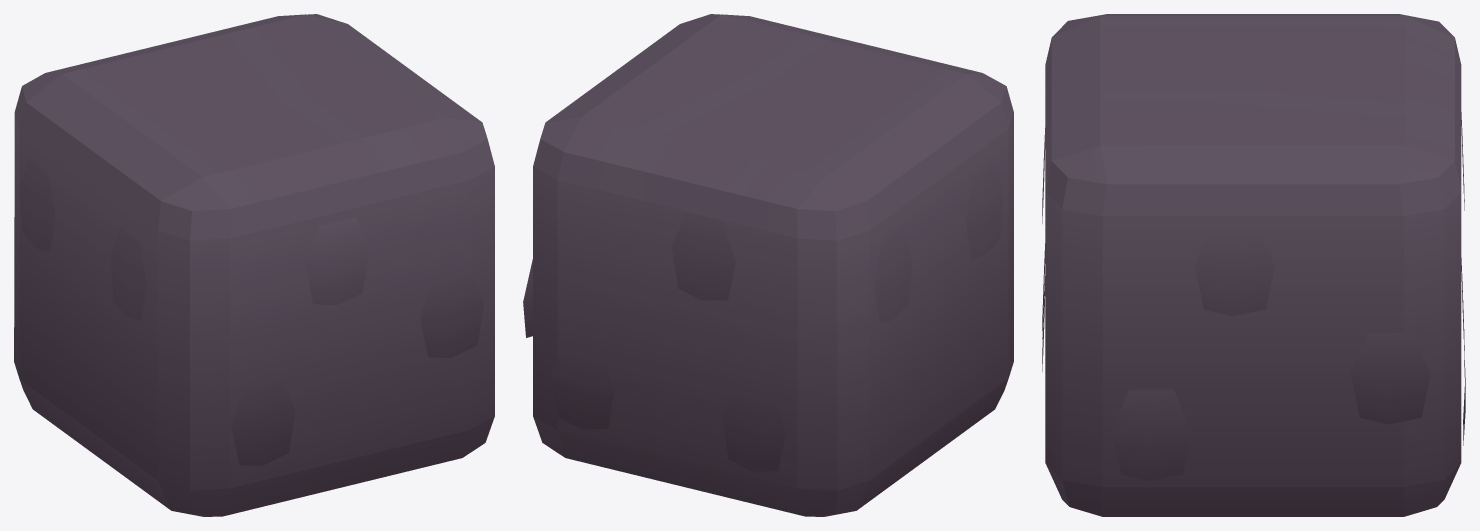
File: CubyBush_Dark.glb
3 views of the same model, side by side, from view 1: azimuth 30°, elevation 25°; view 2: azimuth 150°, elevation 25°; view 3: azimuth 270°, elevation 25° (orthographic). The views are drawn at different scales.
Visible parts, largest first — view 1: CubyBush_Dark; view 2: CubyBush_Dark; view 3: CubyBush_Dark.
Part boxes in pixels (x1,y1,x2,y2): CubyBush_Dark: (14, 14, 494, 516); CubyBush_Dark: (523, 14, 1013, 516); CubyBush_Dark: (1042, 14, 1465, 516).
Size of the model in its own units: 1.26 by 1.21 by 1.25.
Materials: 1 (1 with a texture image).
